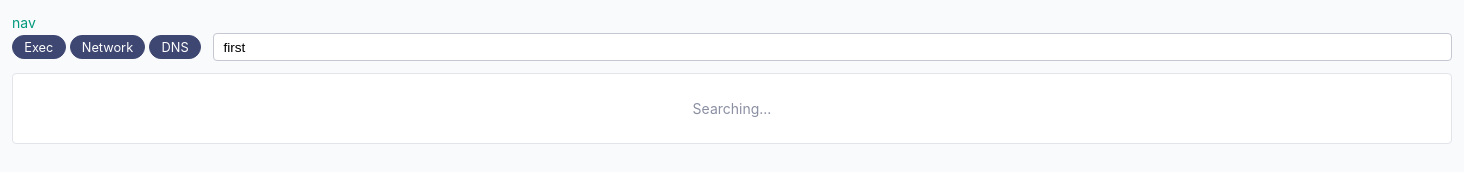
it: HostTimeline › re-syncs the text input when the URL text changes externally
Expected: the search field holds "first", [213,33,1452,61]
Click the link "nav".
click(24, 22)  # box [12,14,36,31]
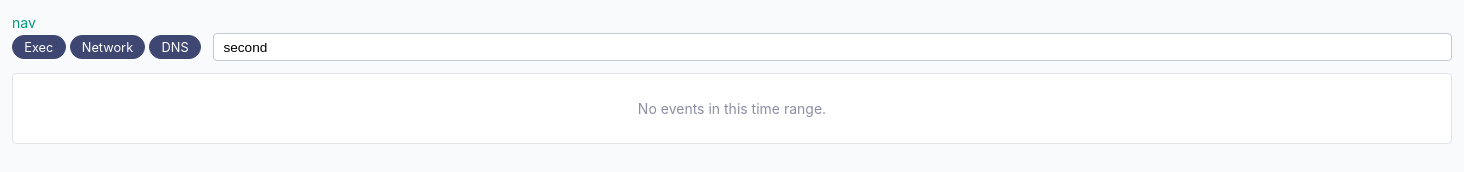
Now the search field holds "second", box [213,33,1452,61]
